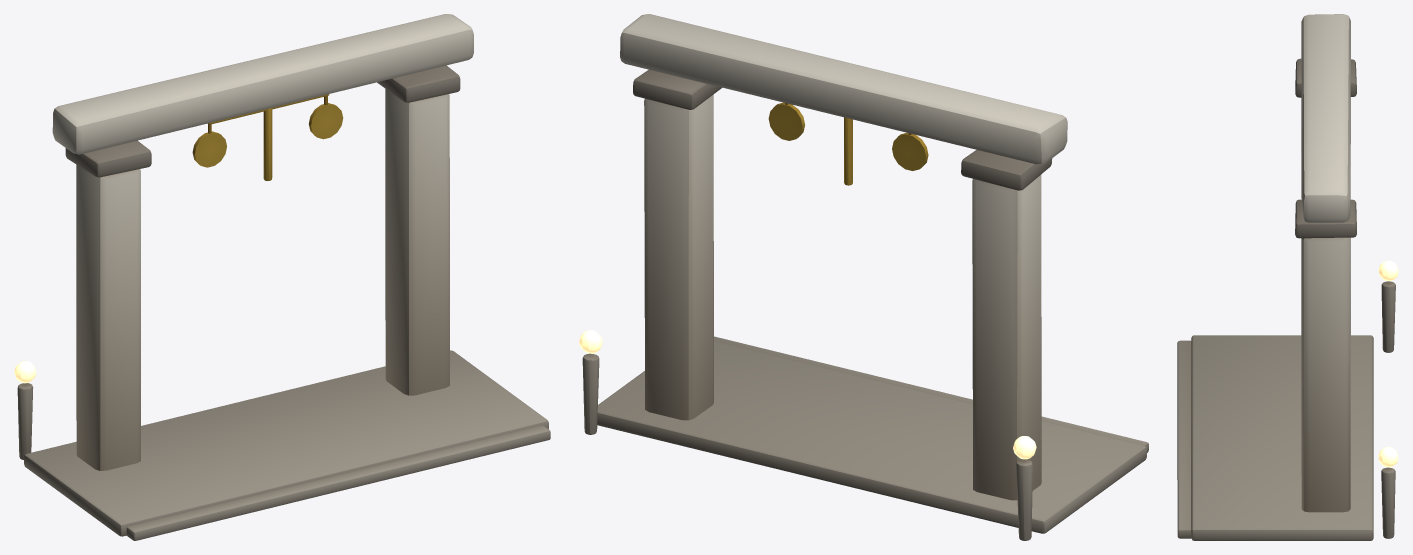
The picture shows the model from 3 angles, left to right: view 1: azimuth 30°, elevation 25°; view 2: azimuth 150°, elevation 25°; view 3: azimuth 270°, elevation 25°; orthographic projection. The views are drawn at different scales.
Parts seen in each view (by area): view 1: gate_fa8e4ed7; view 2: gate_fa8e4ed7; view 3: gate_fa8e4ed7.
Boxes of the visible parts, left/top/right/bottom form: gate_fa8e4ed7: left=14, top=14, right=550, bottom=540; gate_fa8e4ed7: left=579, top=14, right=1148, bottom=540; gate_fa8e4ed7: left=1177, top=14, right=1398, bottom=540.
Bounding box in the file's own units: 5.33 × 4.35 × 2.55.
